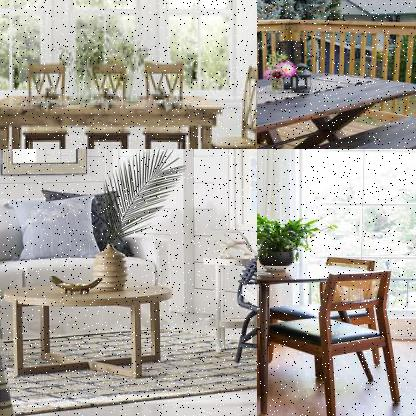table: (257, 253, 387, 404), (2, 281, 176, 380), (257, 60, 415, 148), (0, 87, 226, 148)
